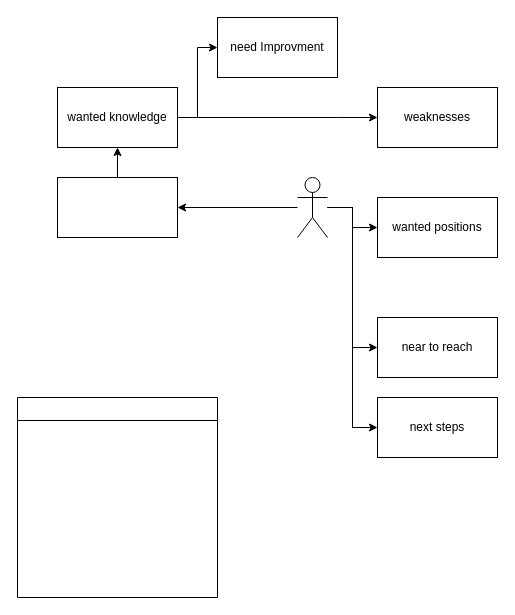
Image size: 515x615. Some labels were removed from this diagram. The centre of each missing label's shape, as x and y in pixels:
Actor: point 312,207
Inspring People: point 117,497
knowledge: point 117,207
